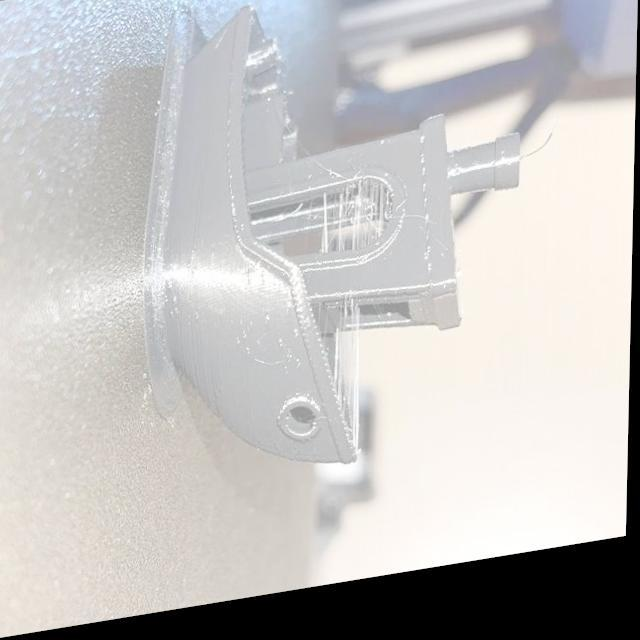stringing: (320, 197, 378, 268), (330, 315, 369, 384), (346, 384, 366, 451)
